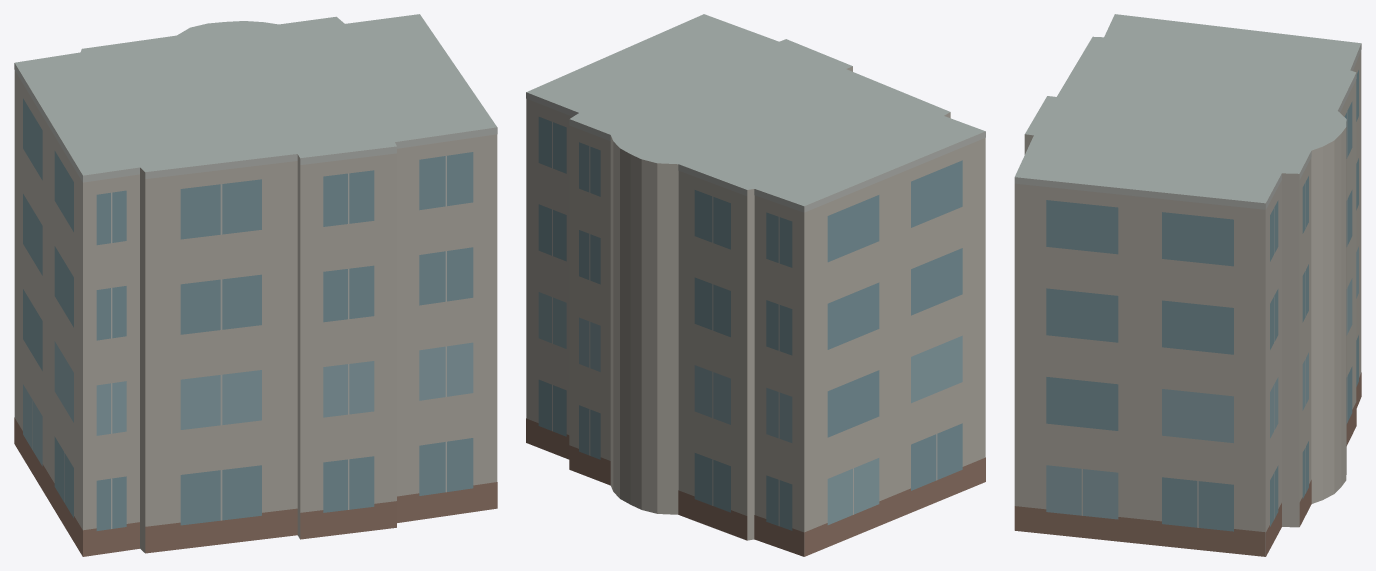
File: survey-upis-32808650.glb
3 renders of one model, left to right at view 1: azimuth 30°, elevation 25°; view 2: azimuth 150°, elevation 25°; view 3: azimuth 270°, elevation 25°, orthographic. The views are drawn at different scales.
Parts seen in each view (by area): view 1: survey-upis-32808650.tmp; view 2: survey-upis-32808650.tmp; view 3: survey-upis-32808650.tmp.
Boxes of the visible parts, x1,y1,x2,y2 form: survey-upis-32808650.tmp: [14, 14, 497, 556]; survey-upis-32808650.tmp: [526, 14, 985, 556]; survey-upis-32808650.tmp: [1014, 14, 1361, 556].
Bounding box in the file's own units: 15.34 × 13.35 × 11.88.
